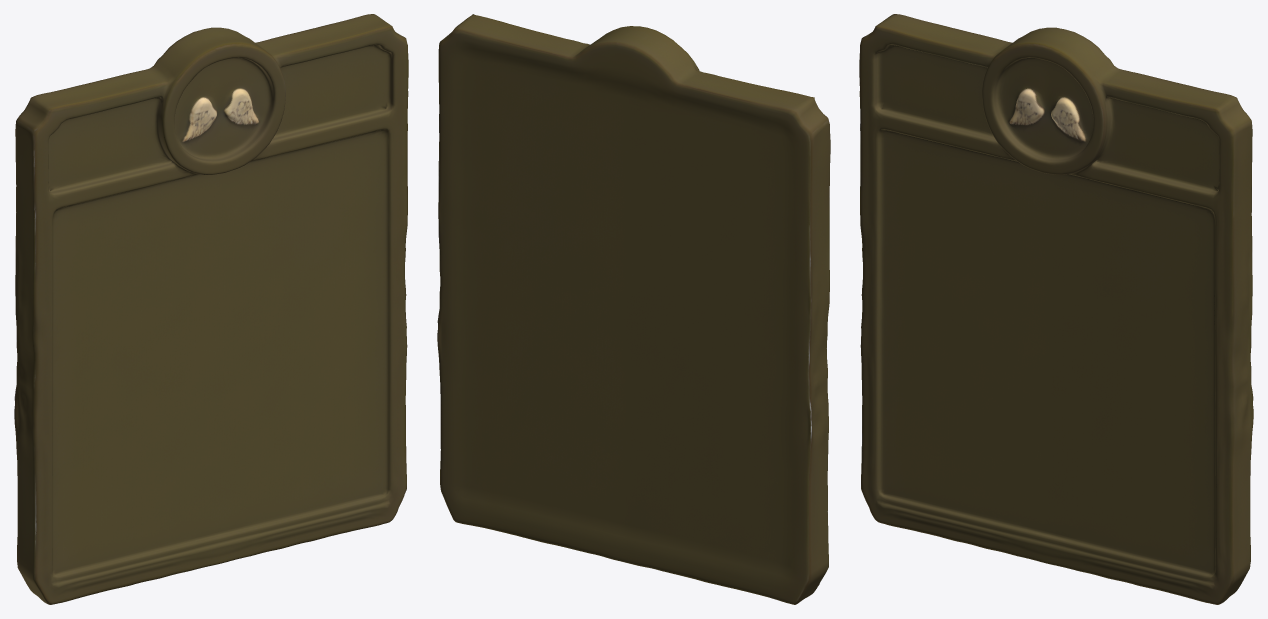
File: base_basic_pbr.fbx
The picture shows the model from 3 angles, left to right: view 1: azimuth 30°, elevation 25°; view 2: azimuth 150°, elevation 25°; view 3: azimuth 330°, elevation 25°; orthographic projection.
Parts seen in each view (by area): view 1: model; view 2: model; view 3: model.
Part boxes in pixels (x1=…): model: x1=14, y1=14, x2=408, y2=604; model: x1=437, y1=14, x2=830, y2=604; model: x1=859, y1=14, x2=1253, y2=604.
Bounding box in the file's own units: 142 × 190 × 15.74.
Materials: 1 (1 with a texture image).
